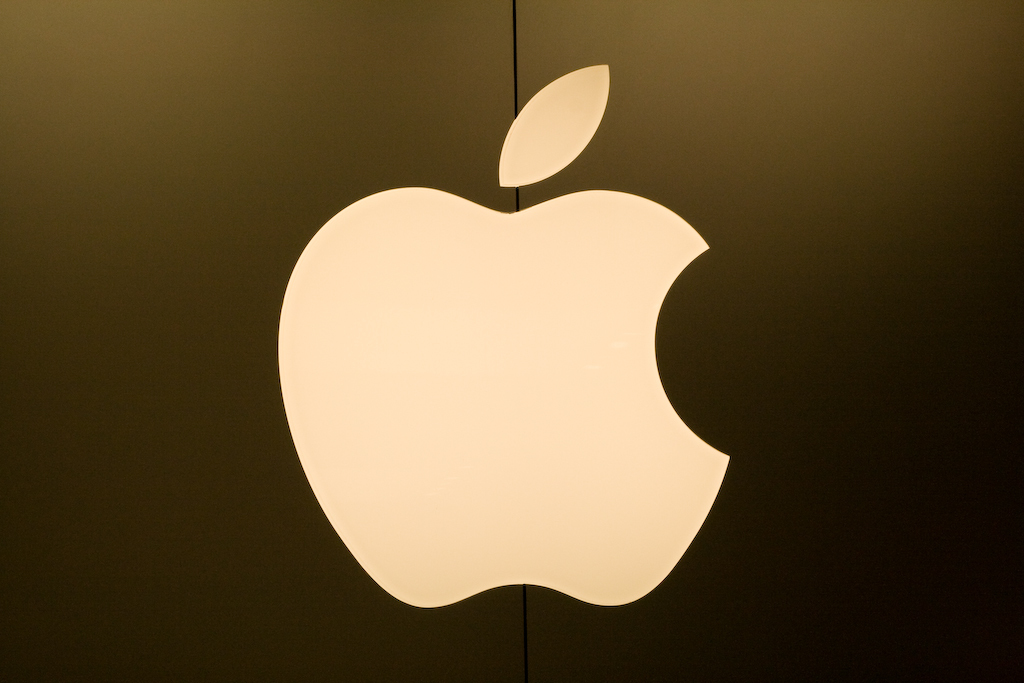Apple: (275, 60, 727, 607)
